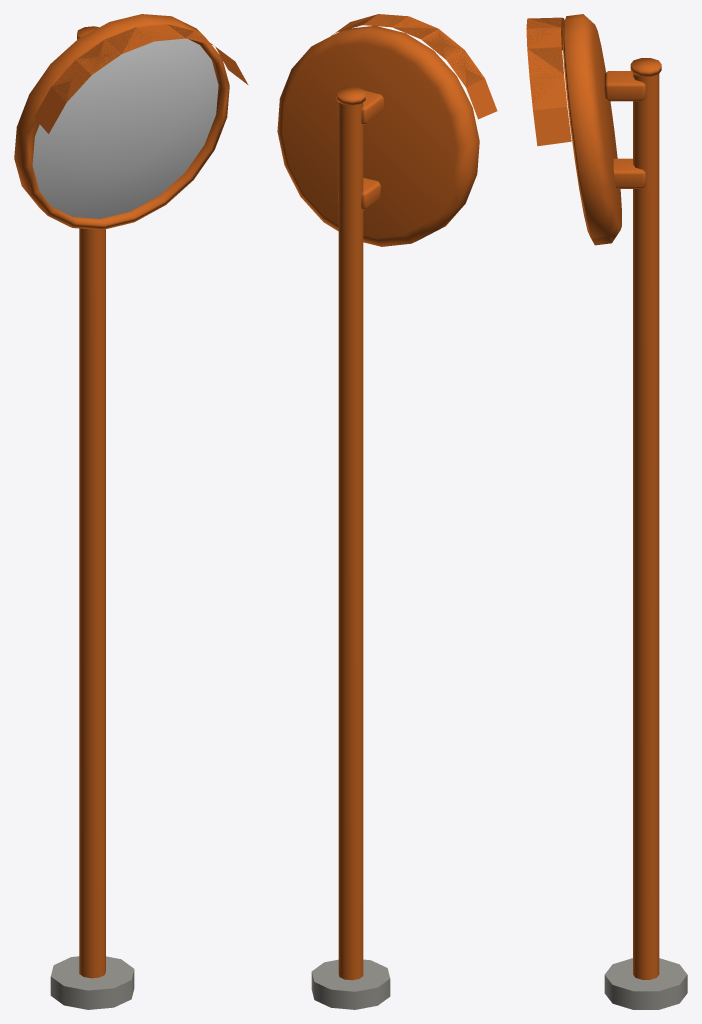
Rendered from ConvexMirrorKM.fbx.
3 renders of one model, left to right at view 1: azimuth 30°, elevation 25°; view 2: azimuth 150°, elevation 25°; view 3: azimuth 270°, elevation 25°, orthographic. The views are drawn at different scales.
Visible parts, largest first — view 1: ConvexMirrorKM; view 2: ConvexMirrorKM; view 3: ConvexMirrorKM.
Boxes of the visible parts, x1,y1,x2,y2 form: ConvexMirrorKM: (14,14,248,1009); ConvexMirrorKM: (277,14,497,1009); ConvexMirrorKM: (526,14,687,1009).
Bounding box in the file's own units: 0.6618 × 3.09 × 0.4666.
